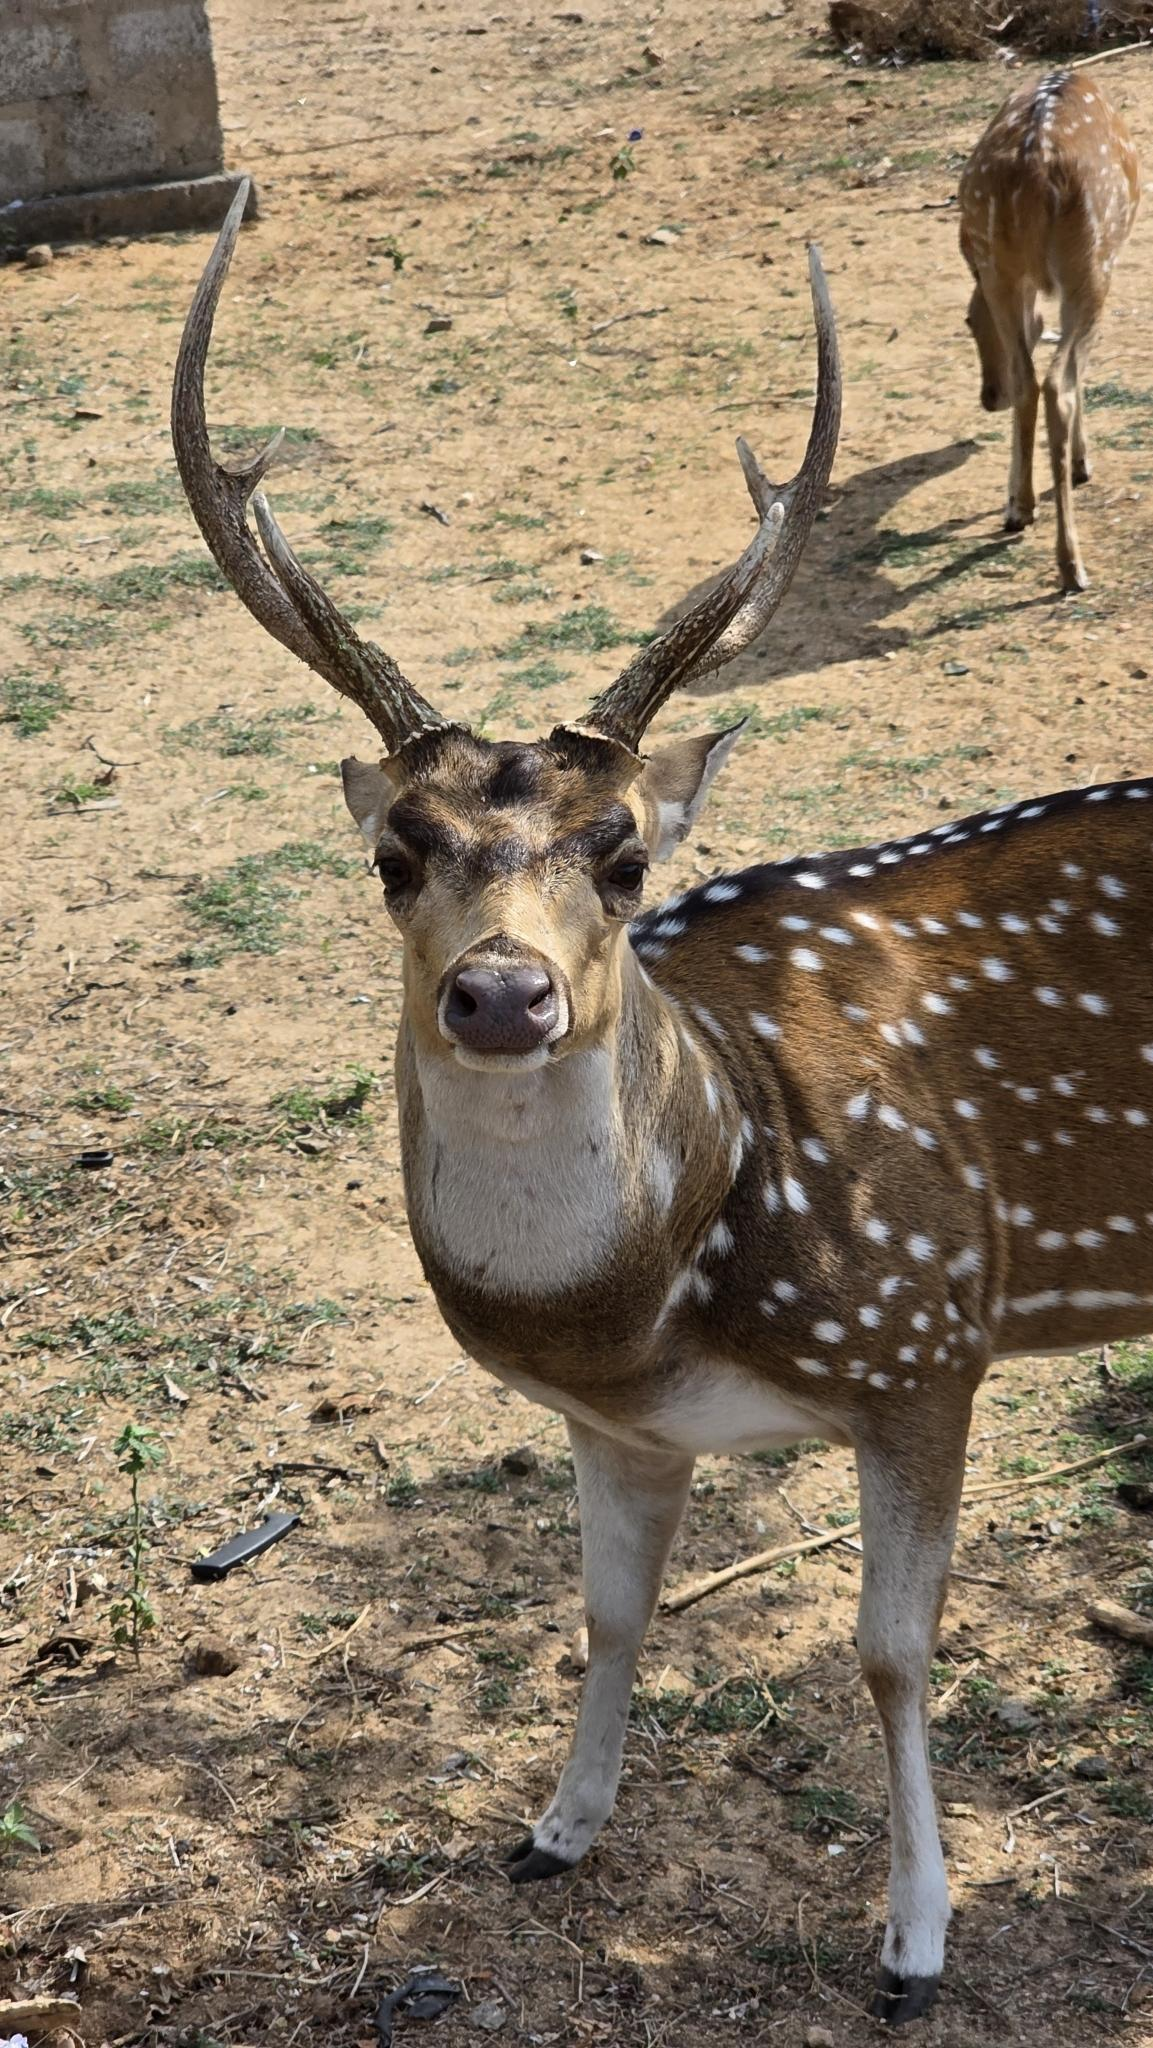Deer: (172, 190, 1152, 2023)
